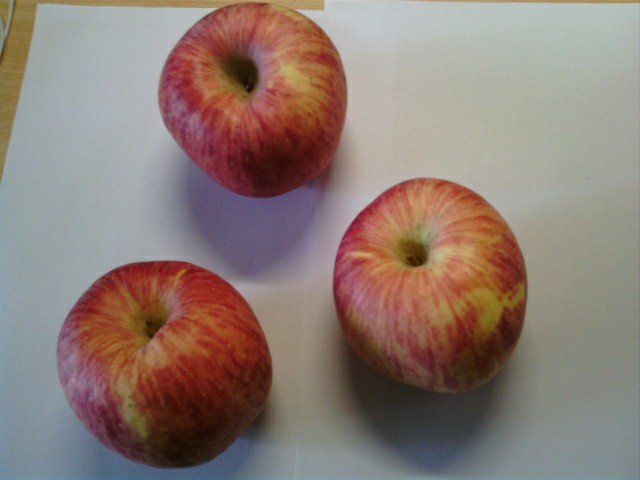normal_apple: (58, 259, 272, 468), (333, 177, 529, 397), (155, 4, 348, 200)
